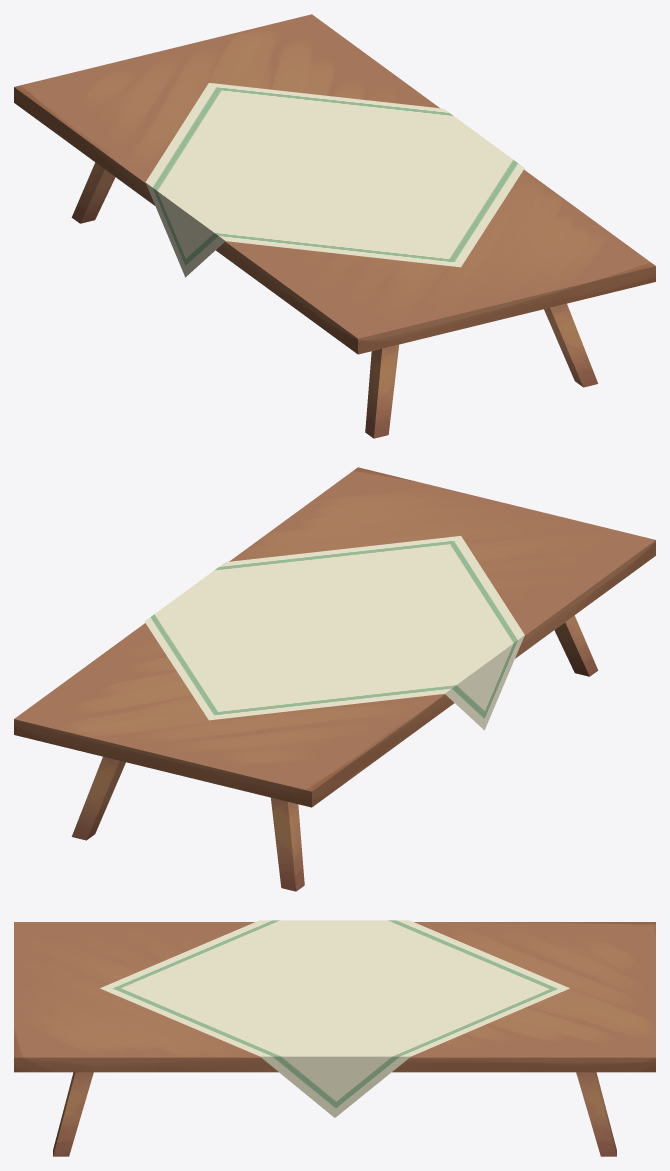
File: table.fbx
3 views of the same model, one above another, from view 1: azimuth 30°, elevation 25°; view 2: azimuth 150°, elevation 25°; view 3: azimuth 270°, elevation 25° (orthographic). The views are drawn at different scales.
Visible parts, largest first — view 1: Cube; view 2: Cube; view 3: Cube.
Boxes of the visible parts, x1=… form: Cube: x1=14, y1=14, x2=655, y2=438; Cube: x1=14, y1=467, x2=655, y2=891; Cube: x1=14, y1=920, x2=655, y2=1156.
Bounding box in the file's own units: 600 × 301 × 121.
